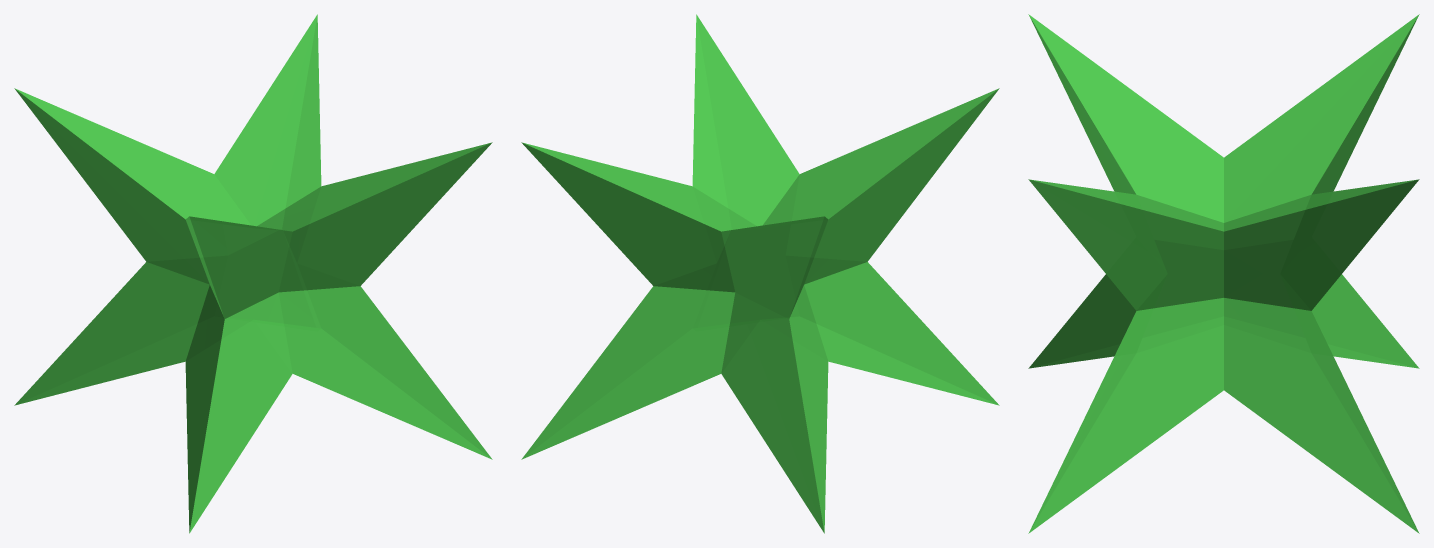
The model's file is cubo_kites.obj.
The picture shows the model from 3 angles, left to right: view 1: azimuth 30°, elevation 25°; view 2: azimuth 150°, elevation 25°; view 3: azimuth 270°, elevation 25°; orthographic projection. The views are drawn at different scales.
Size of the model in its own units: 8 by 8 by 8.
